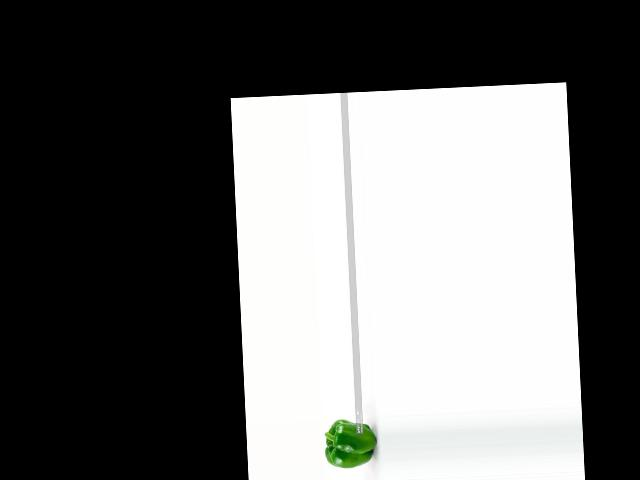bell_pepper: (321, 418, 379, 471)
